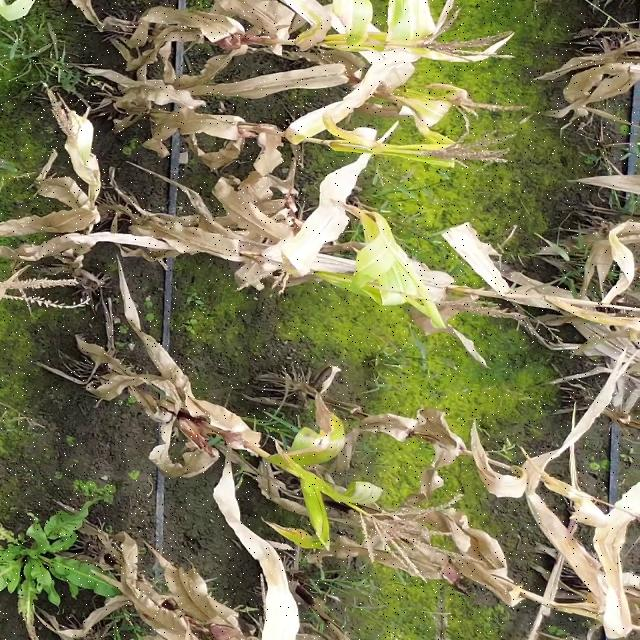northern-leaf-blight: (304, 421, 342, 461), (332, 0, 366, 39)
